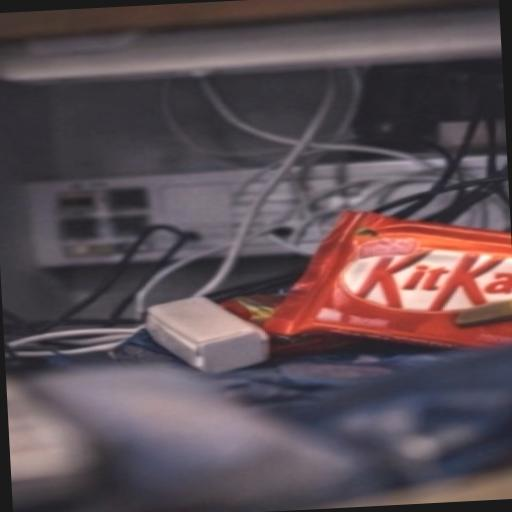kitkat: (223, 159, 512, 416)
